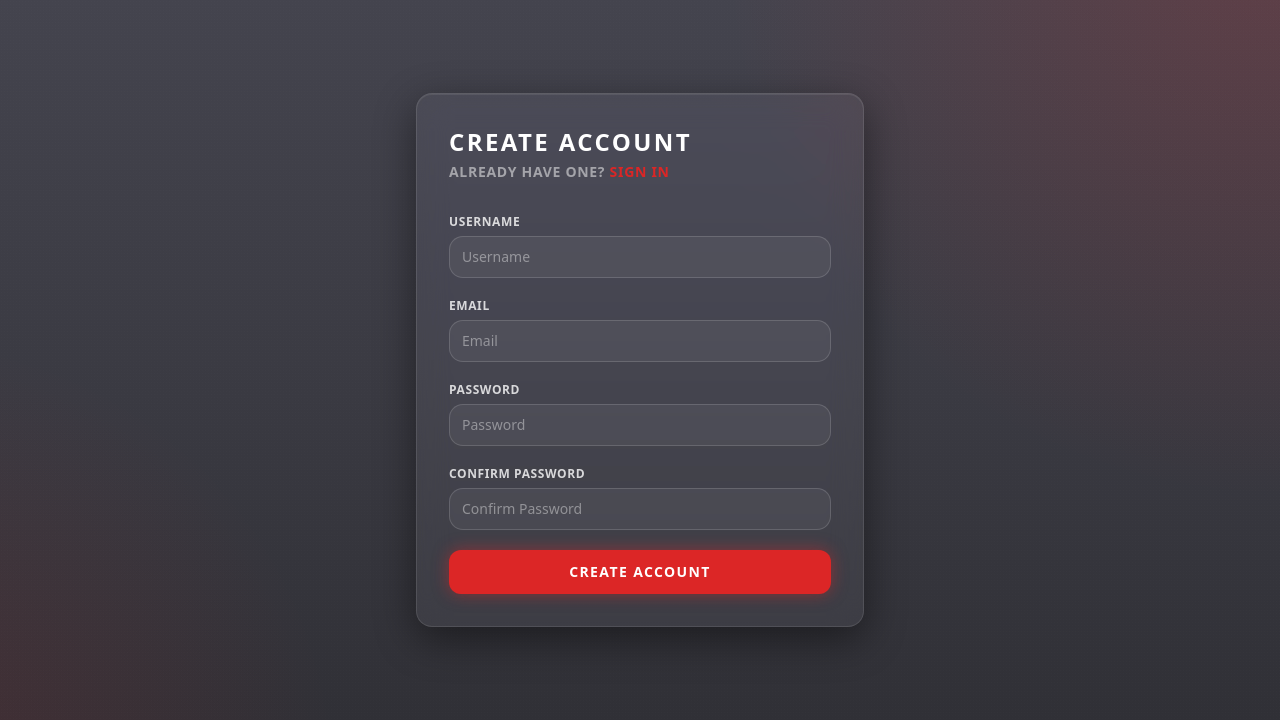
Scenario: Register page › successful registration › shows the Account Created success screen
Type "ash" into the field labelled "Username". click: (640, 257)
box: [449,236,831,278]
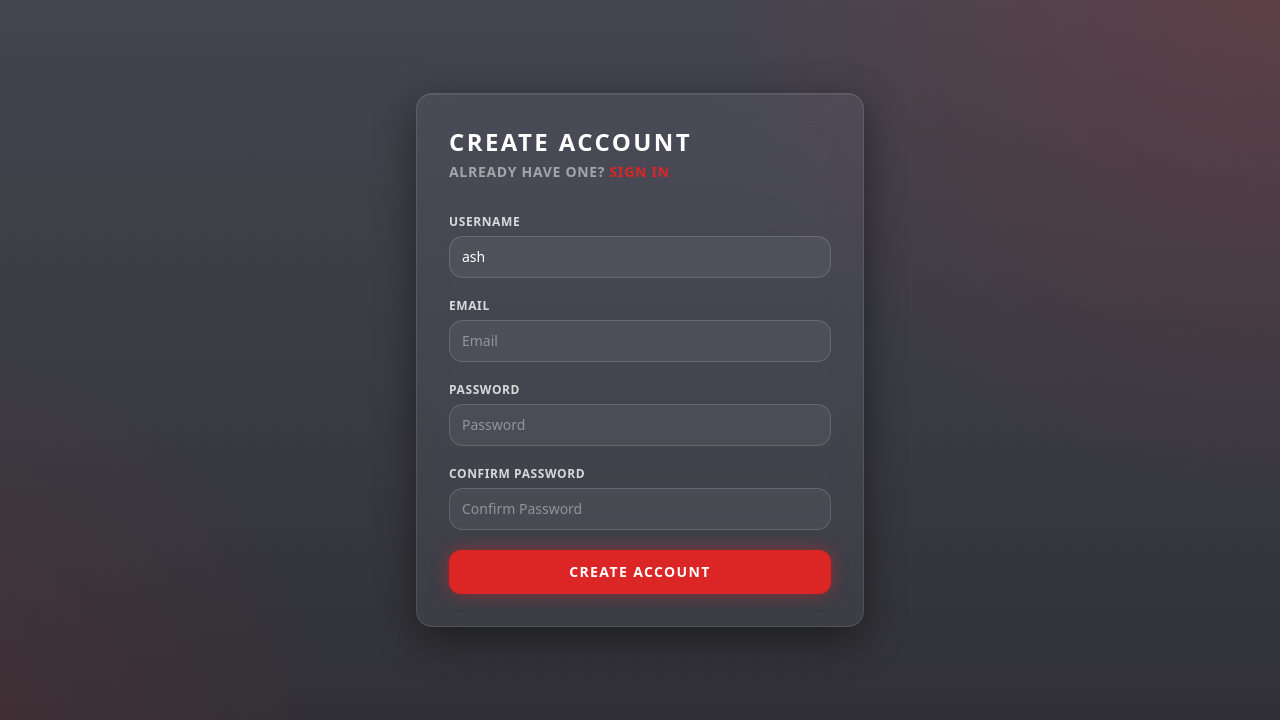
Type "ash@pallet.com" into the field labelled "Email". click: (640, 341)
box: [449,320,831,362]
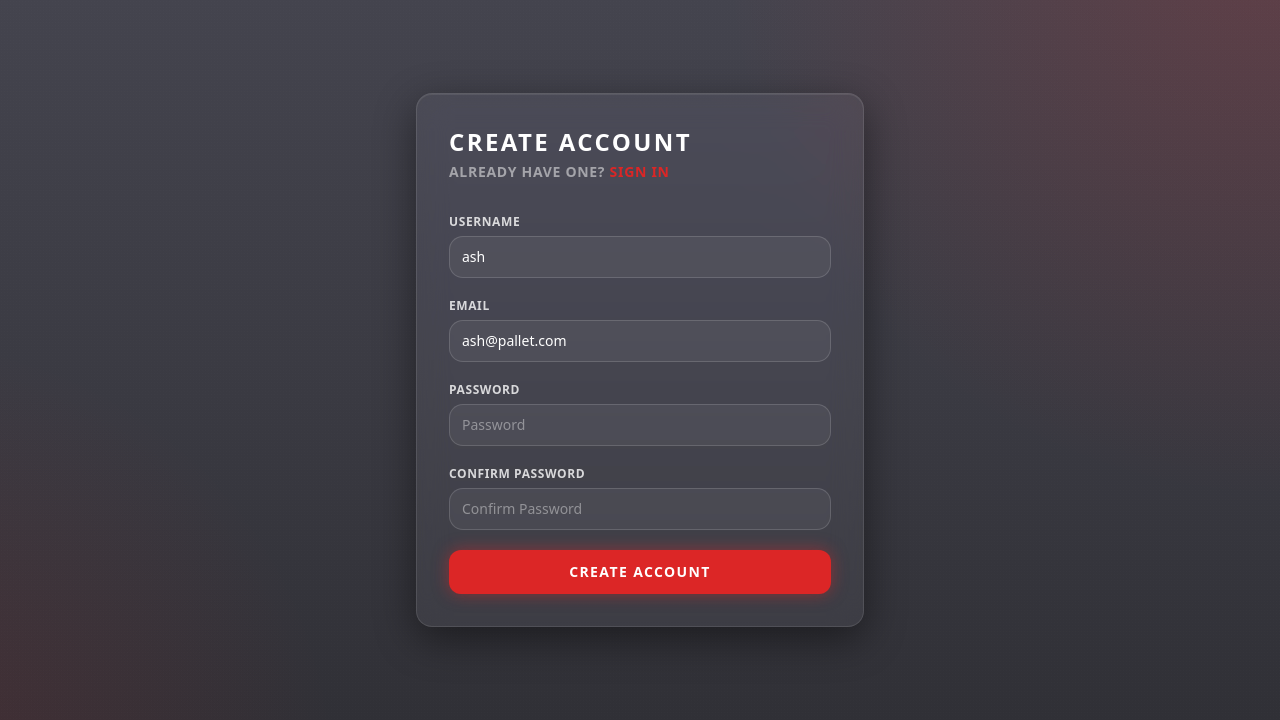
Type "pikachu1" into the password field labelled "Password". click: (640, 425)
box: [449,404,831,446]
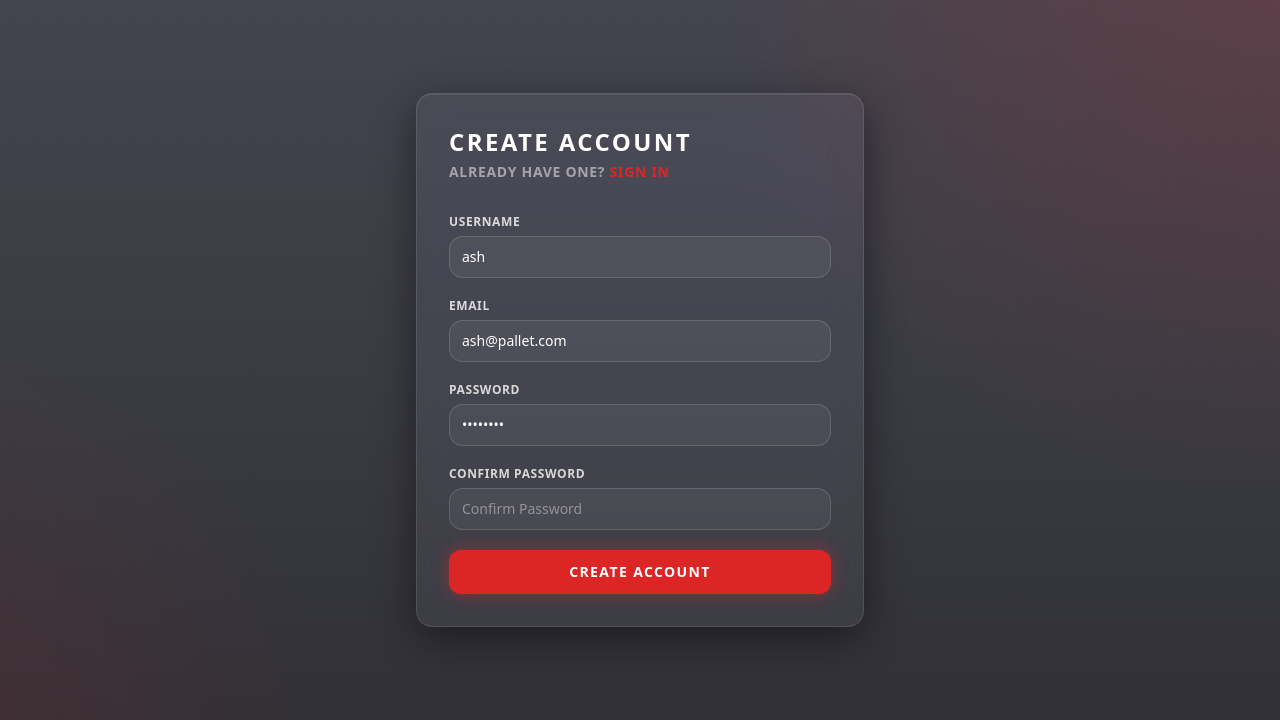
Type "pikachu1" into the password field labelled "Confirm Password". click: (640, 509)
box: [449,488,831,530]
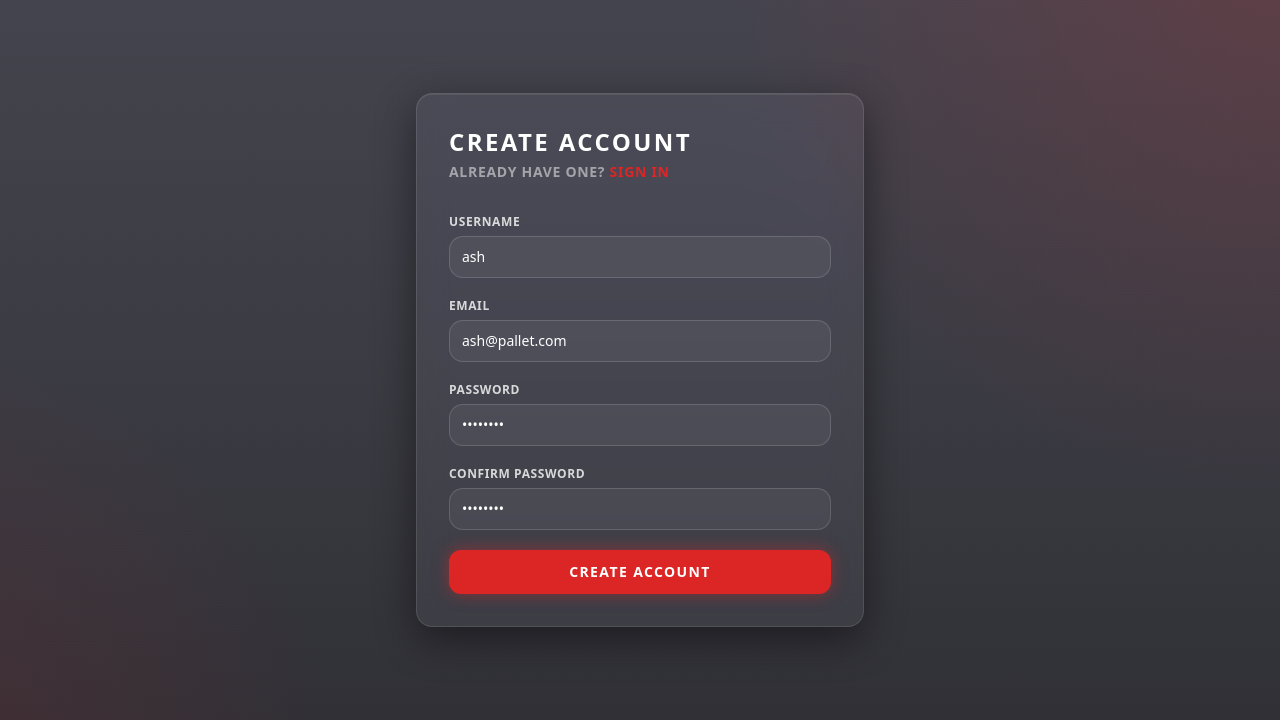
Click the button "Create Account". click: (640, 572)
box: [449,550,831,594]
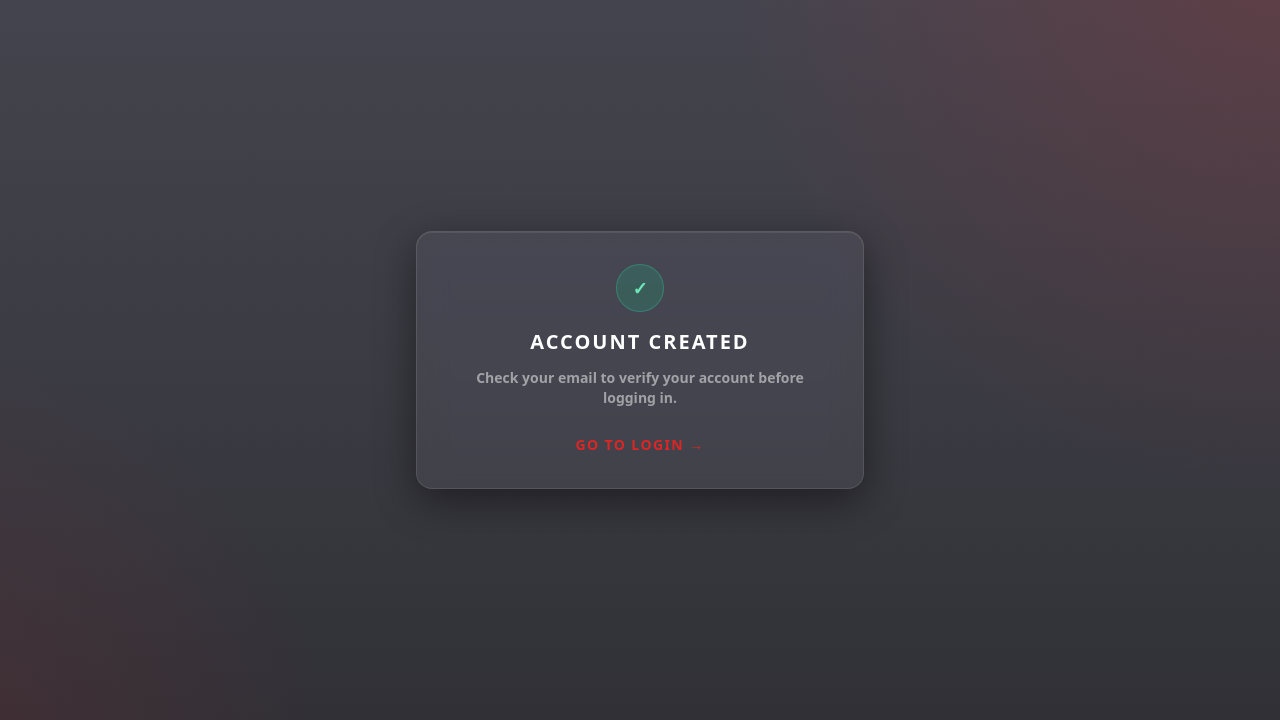
Expected: the heading "Account Created" is shown, [530,328,750,355]
